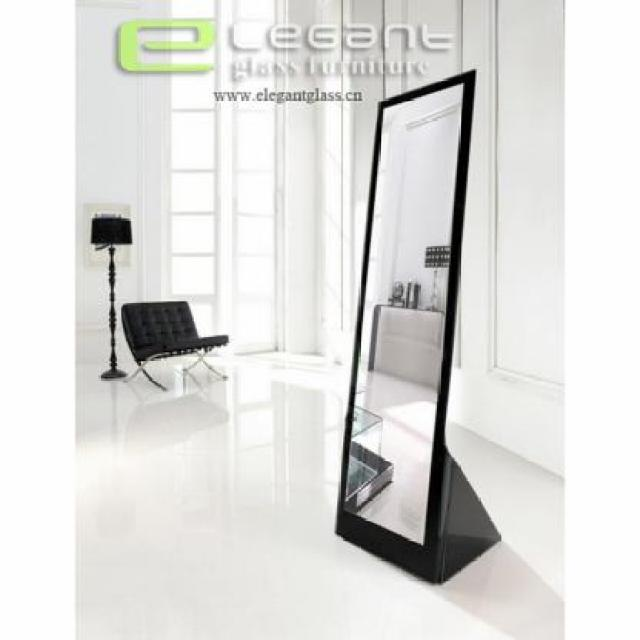Floor: (75, 351, 565, 639)
